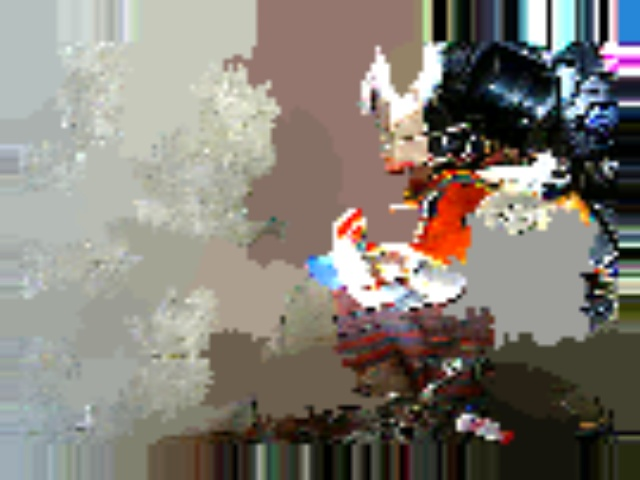one: (501, 203, 537, 231)
